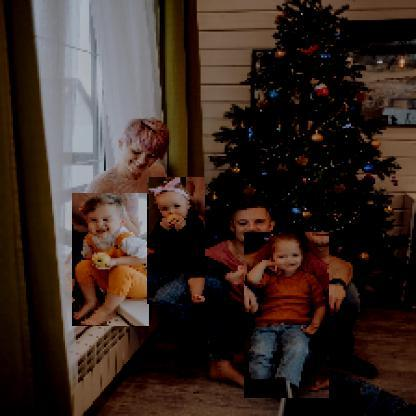child: (245, 233, 331, 400), (74, 194, 152, 328), (148, 179, 207, 307)
